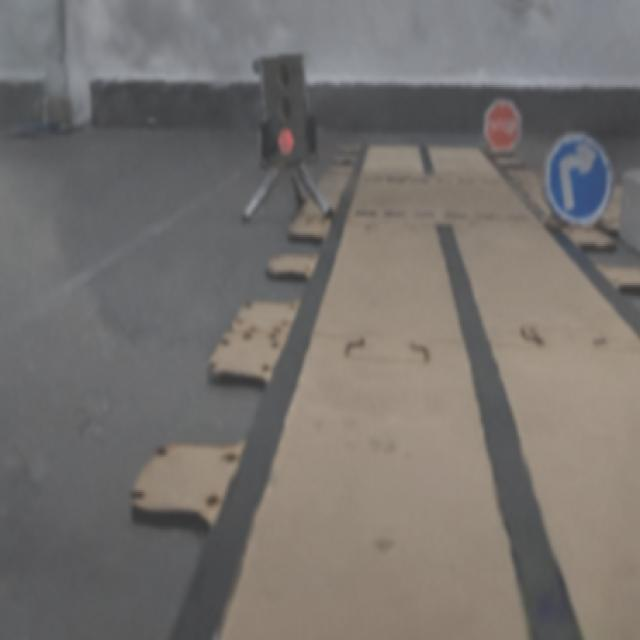RIGHT: (544, 135, 612, 224)
STOP: (484, 100, 520, 152)
